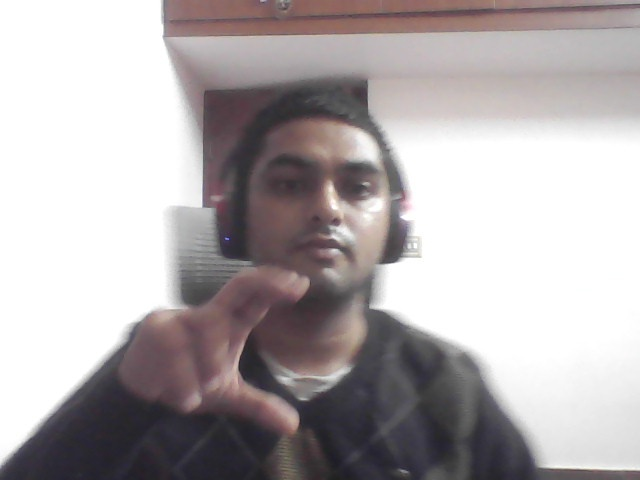No: (98, 248, 339, 458)
